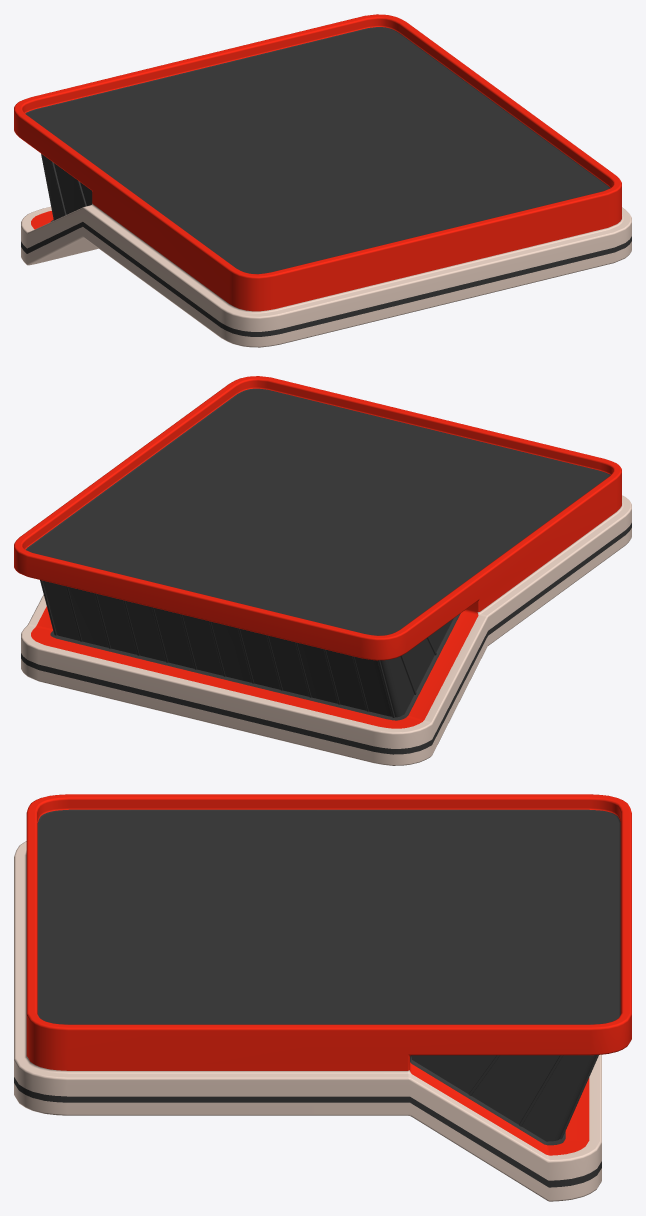
The model's file is SM_Building01_FL_4.fbx.
3 renders of one model, top to bottom at view 1: azimuth 30°, elevation 25°; view 2: azimuth 150°, elevation 25°; view 3: azimuth 270°, elevation 25°, orthographic. The views are drawn at different scales.
Visible parts, largest first — view 1: SM_Building01_FL_03; view 2: SM_Building01_FL_03; view 3: SM_Building01_FL_03.
Boxes of the visible parts, box(x1,y1,x2,y2) form: SM_Building01_FL_03: box(14, 14, 631, 347); SM_Building01_FL_03: box(14, 376, 631, 765); SM_Building01_FL_03: box(14, 794, 631, 1201).
Bounding box in the file's own units: 2038 × 653 × 2167.
